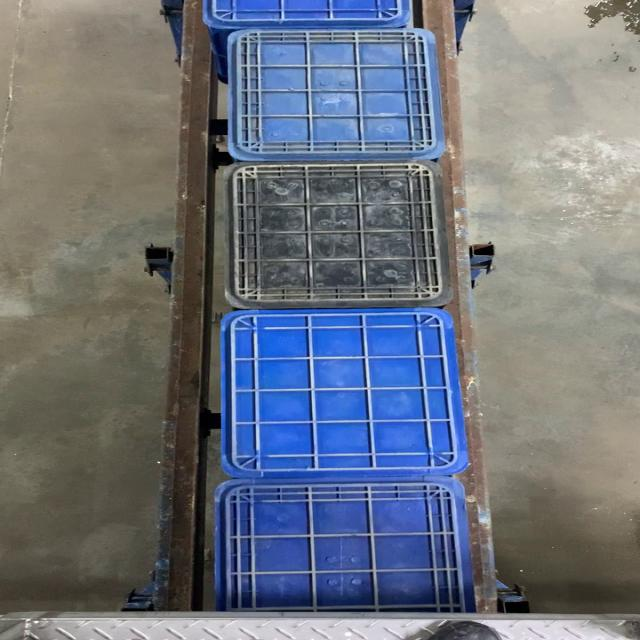Box: (218, 311, 468, 475), (224, 161, 448, 309), (223, 30, 445, 160)
